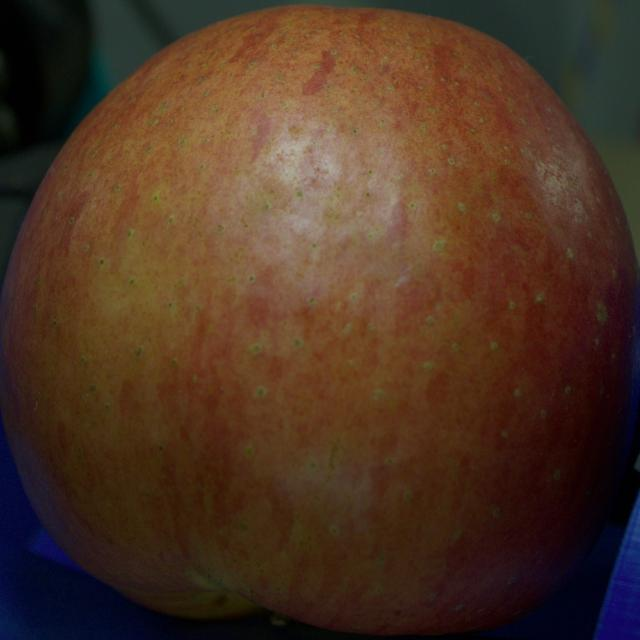apple: (0, 6, 639, 634)
